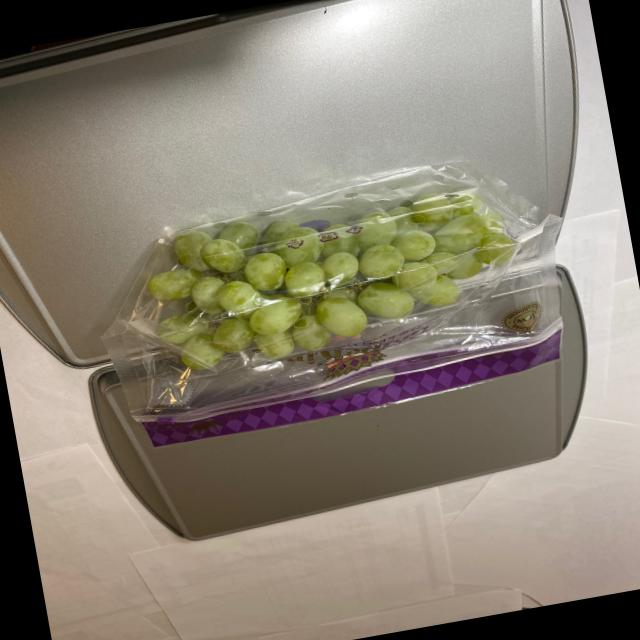grapes: (106, 166, 512, 382)
